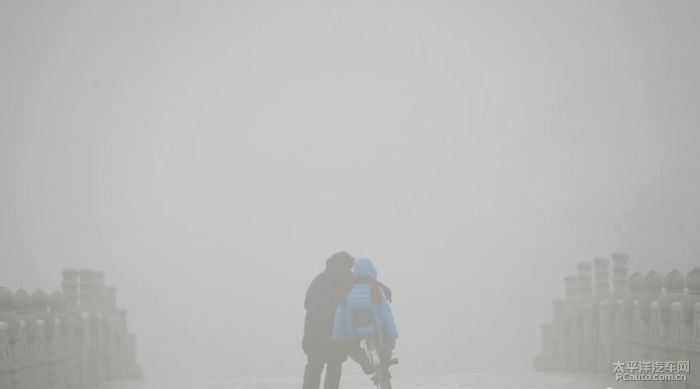person: (330, 257, 399, 376), (301, 249, 352, 389)
